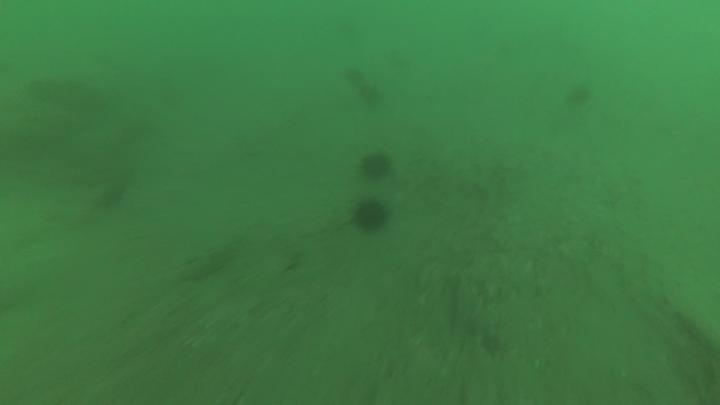echinus: (350, 197, 391, 236), (356, 149, 395, 183), (353, 79, 385, 109), (562, 81, 595, 110), (340, 65, 368, 89)
